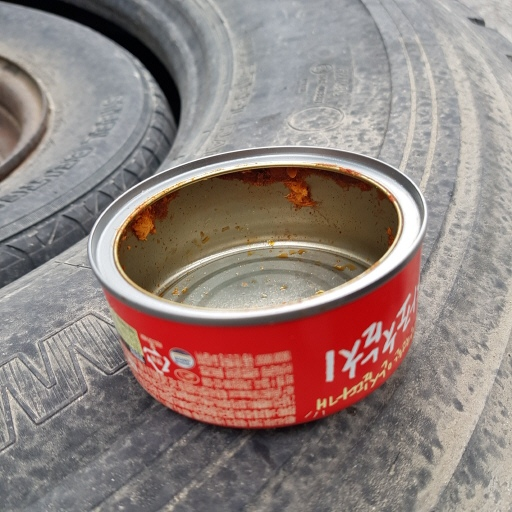Metal_1: (83, 146, 428, 437)
